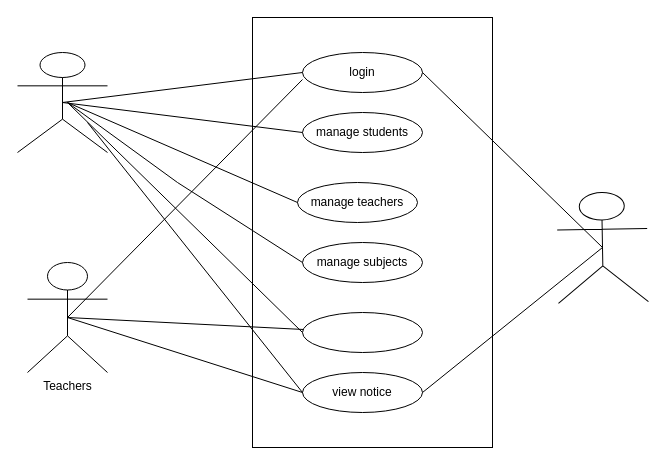
Some shapes in this 666 by 465 pixel diagram are drawn without their labels. Each missing label, with the centre of its shape:
"Admin" belongs at point (62, 102).
"manage attendace" belongs at point (362, 332).
"Students" belongs at point (602, 247).
